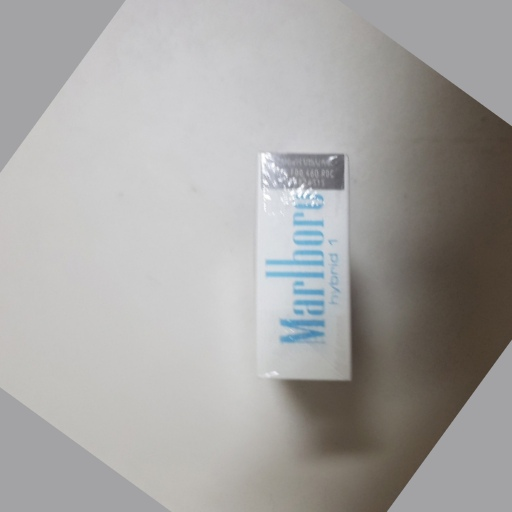Paper_0: (227, 141, 379, 422)
